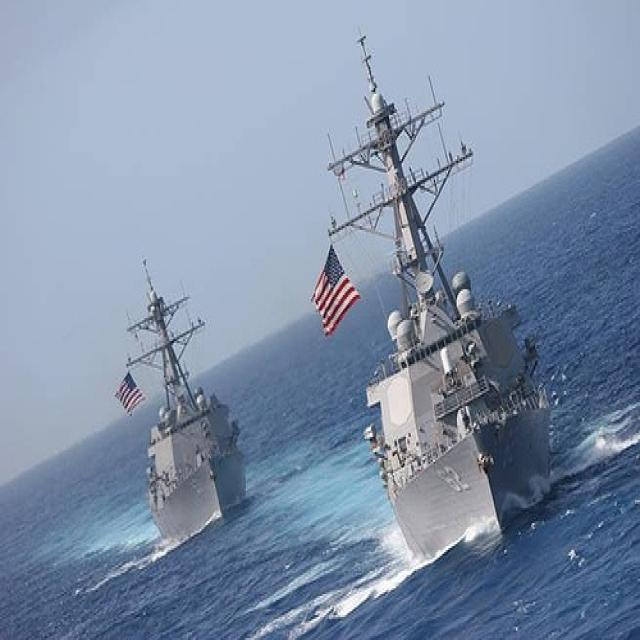boat: (317, 25, 557, 558), (118, 255, 252, 554)
